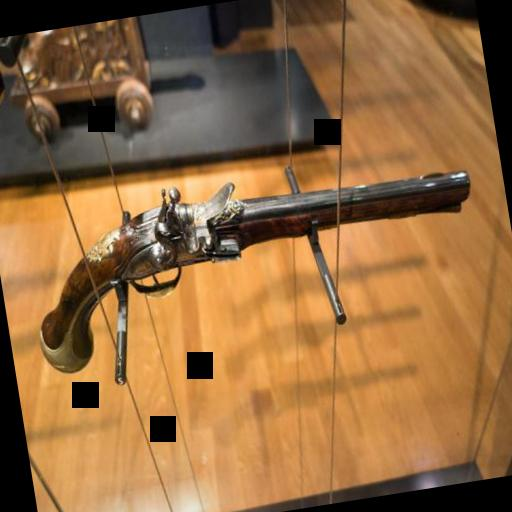Handgun: (14, 135, 490, 383)
